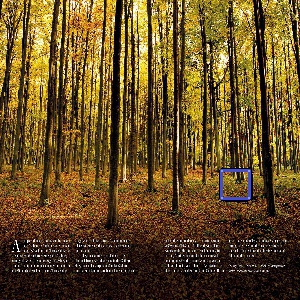square: (217, 167, 254, 203)
